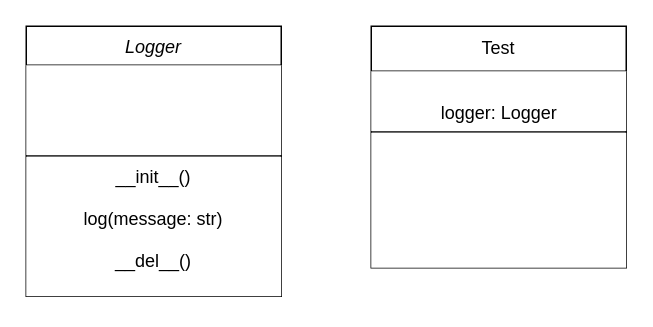
Image size: 653x327. Some labels were removed from this diagram. The shapes that lost their labels are listed below. From the top down, each one's box as (x1, y1, x2, y2) in pixels, then its label:
(26, 64, 280, 154): log_file: File log_count: Int
(370, 132, 626, 267): __init__() llamada(message: str)
